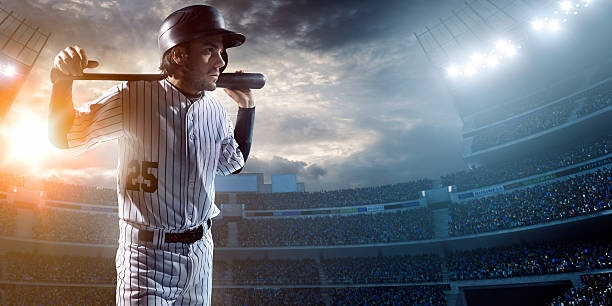bita: (46, 70, 276, 97)
